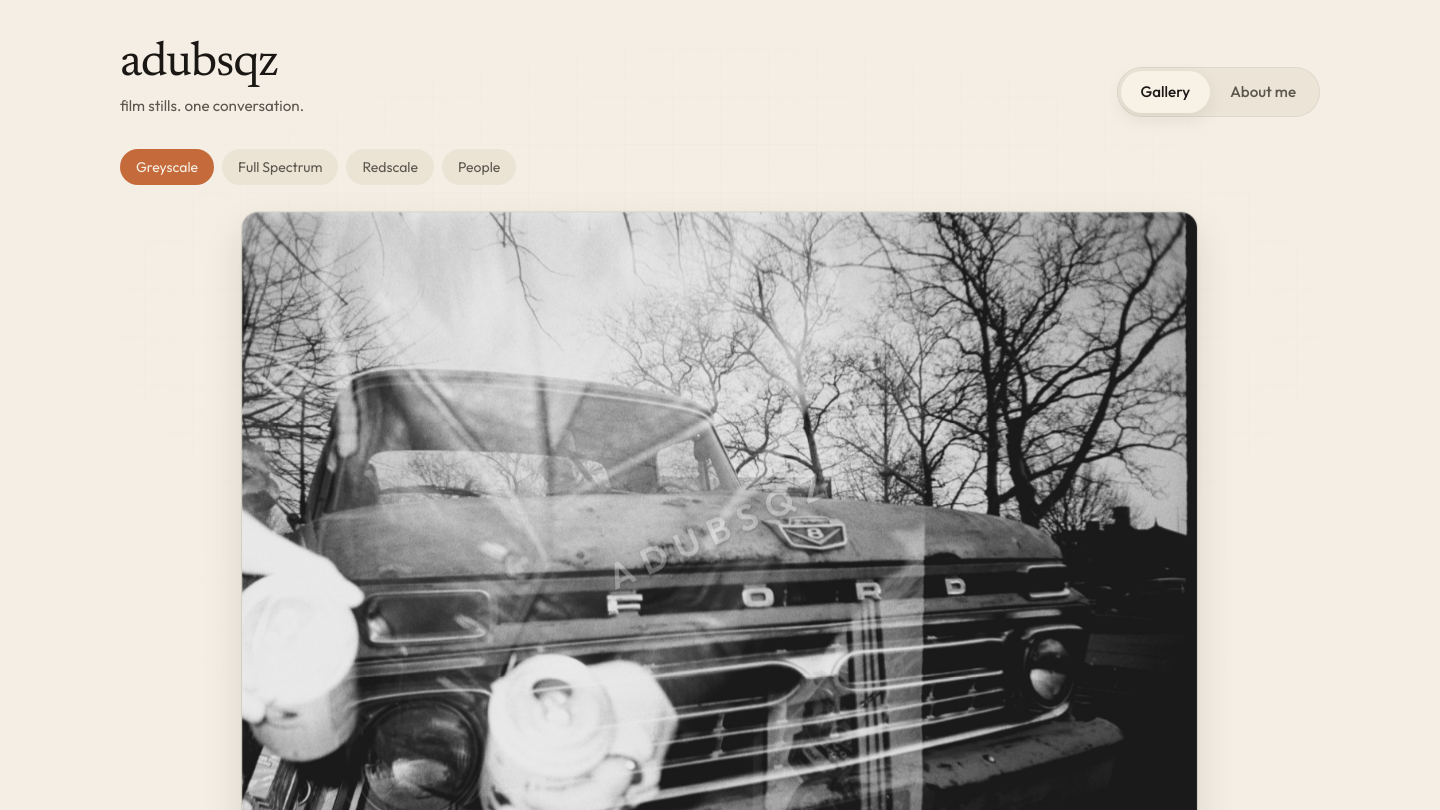
Test case: App › switches to About view when About me tab is clicked
What coordinates should you click on to do the following:
click the tab "About me"
I would click on:
 (1263, 92)
Its box is [1210, 71, 1316, 113].
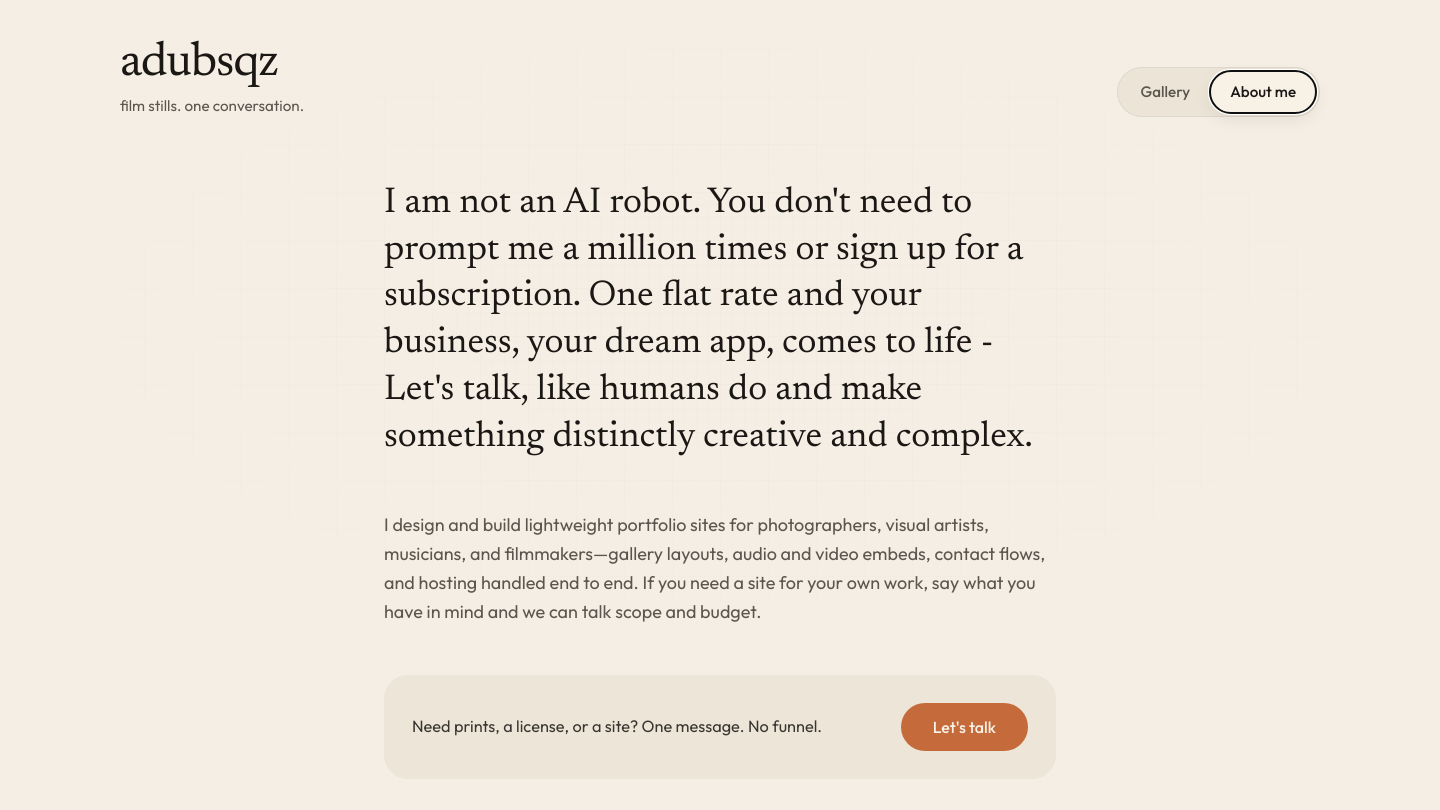
Expected: the text "I am not an AI robot" is shown, [384, 186, 1033, 456]
Expected: the text "lightweight portfolio sites for photographers" is shown, [384, 513, 1045, 624]
Expected: the button "Let's talk" is shown, [901, 703, 1028, 751]
